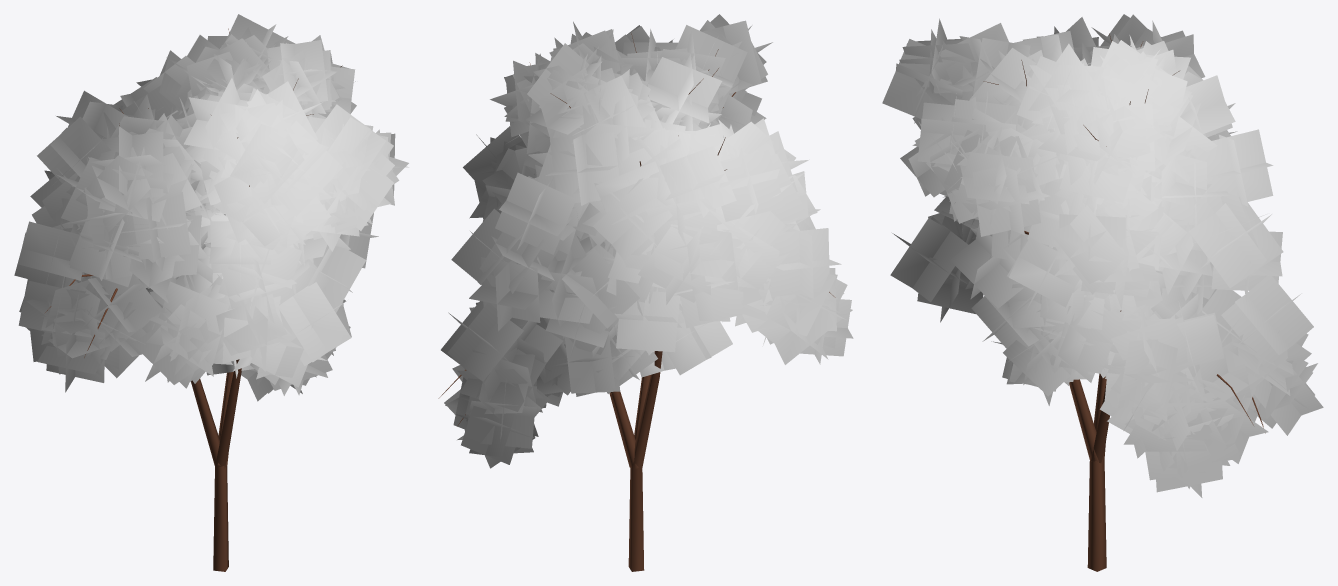
The model's file is T2Tree4.fbx.
The picture shows the model from 3 angles, left to right: view 1: azimuth 30°, elevation 25°; view 2: azimuth 150°, elevation 25°; view 3: azimuth 270°, elevation 25°; orthographic projection. The views are drawn at different scales.
Parts seen in each view (by area): view 1: Leaves_2.4B, Leaves_2.4A, Bark2.4; view 2: Leaves_2.4B, Leaves_2.4A, Bark2.4; view 3: Leaves_2.4A, Leaves_2.4B, Bark2.4.
Part boxes in pixels (bbox=[...]): Leaves_2.4B: bbox=[14, 14, 408, 395]; Leaves_2.4A: bbox=[18, 24, 395, 401]; Bark2.4: bbox=[45, 28, 342, 571]; Leaves_2.4B: bbox=[444, 14, 853, 468]; Leaves_2.4A: bbox=[441, 20, 852, 457]; Bark2.4: bbox=[438, 33, 835, 571]; Leaves_2.4A: bbox=[882, 14, 1317, 492]; Leaves_2.4B: bbox=[896, 14, 1323, 497]; Bark2.4: bbox=[983, 33, 1265, 571].
Bounding box in the file's own units: 5.68 × 7.42 × 5.43.
